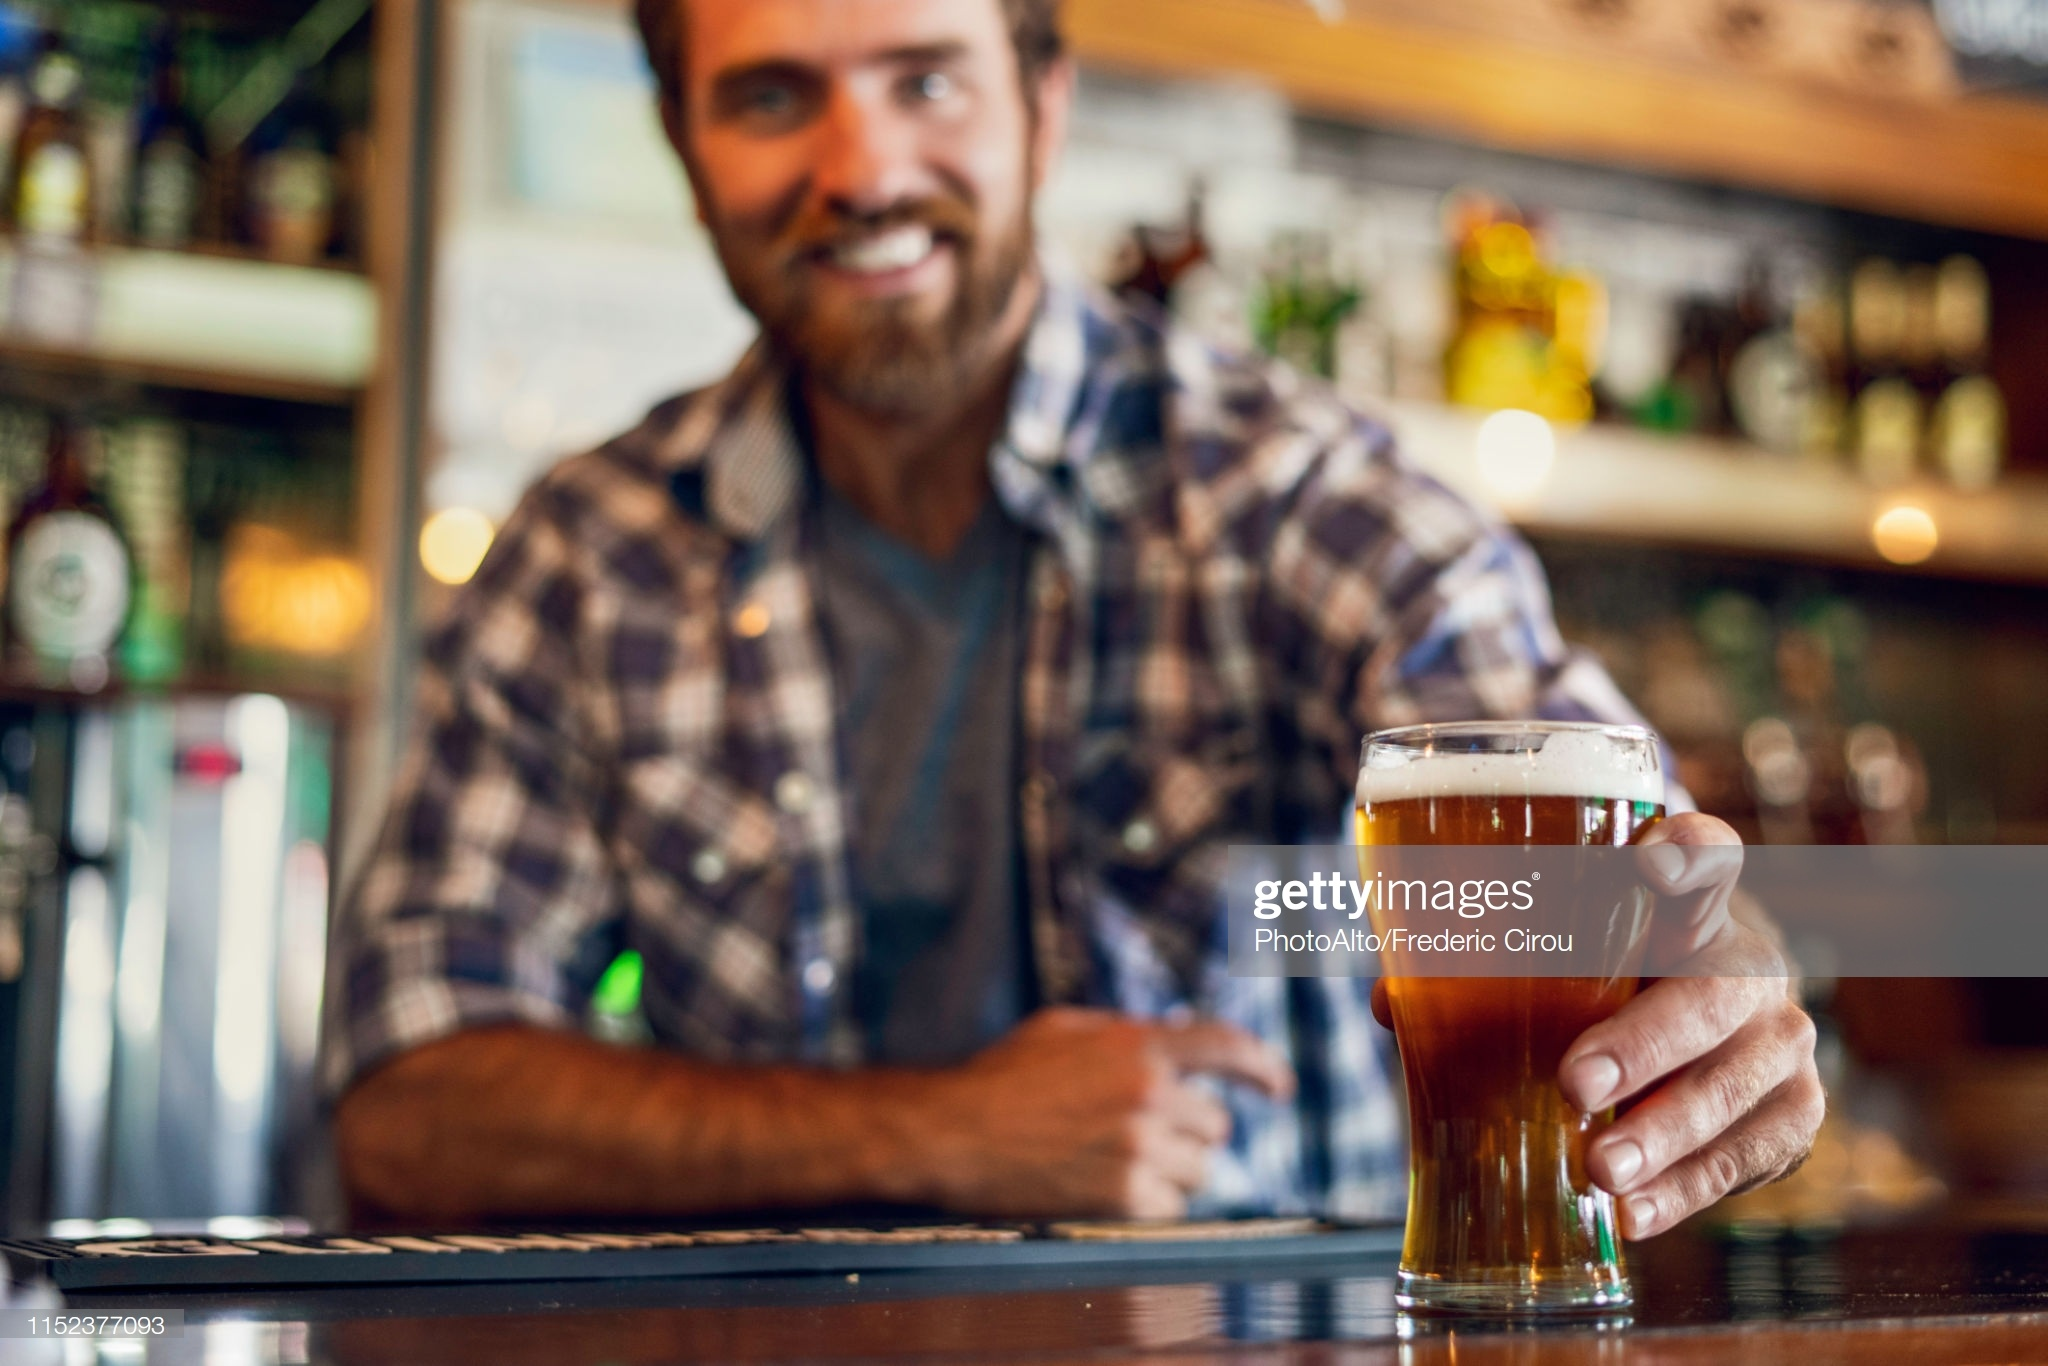glassBeer: (1356, 729, 1669, 1331)
